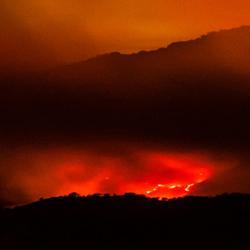fire: (161, 183, 192, 196)
